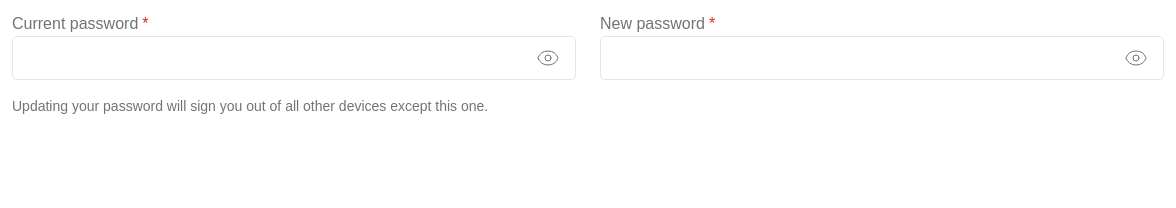
Scenario: UpdatePasswordForm › shows same-password error when current and new passwords match
Type "Password123!" into the password field labelled "Current password".
click(294, 58); type("Password123!")  # box [12,36,576,80]
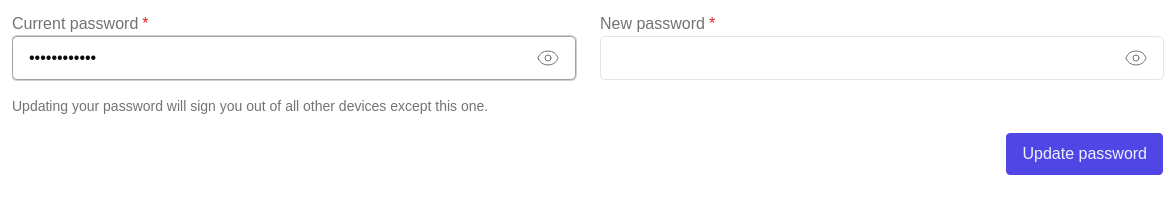
Type "Password123!" into the password field labelled "New password".
click(882, 58); type("Password123!")  # box [600,36,1164,80]
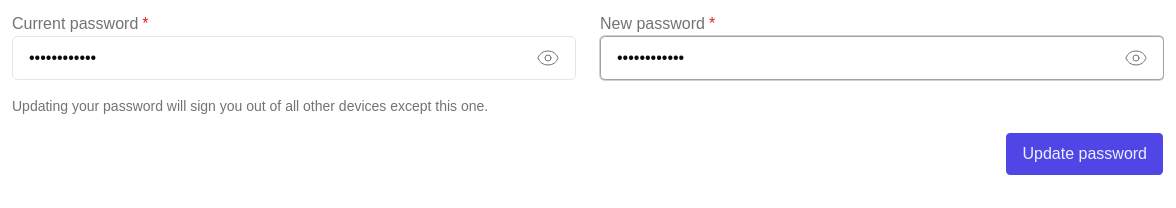
Click the button "Update password".
click(1085, 154)  # box [1006,132,1164,176]
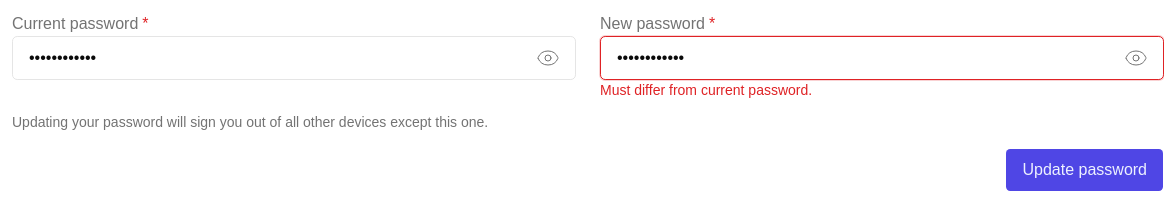
Expected: the text "Must differ from current password." is shown, [600,80,812,100]
